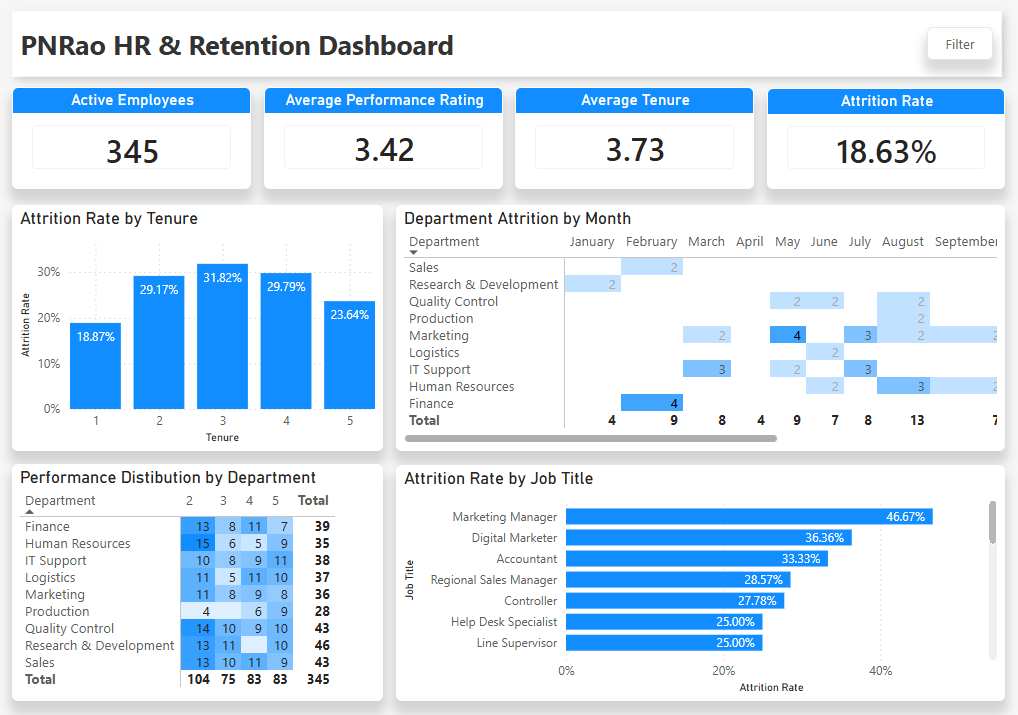

The dashboard page shown, as its layout file describes it:
{"tool":"powerbi","page":{"name":"Overview","canvas":[1020,720],"ordinal":0},"visuals":[{"type":"cardVisual","title":"Active Employees","fields":{"Data":["employee_staging3_v3.Active Employees"]},"box":[13.5,89.3,238.8,101.4],"z":0},{"type":"shape","box":[0,0,1016.3,91.6],"z":1000},{"type":"cardVisual","title":"Average Performance Rating","fields":{"Data":["Avg(employee_staging3_v3.Performance Rating)"]},"box":[264.8,89.3,238.8,101.4],"z":2000},{"type":"cardVisual","title":"Average Tenure","fields":{"Data":["Avg(employee_staging3_v3.Tenure)"]},"box":[516.2,89.3,238.8,101.4],"z":3000},{"type":"cardVisual","title":"Attrition Rate","fields":{"Data":["employee_staging3_v3.Attrition Rate"]},"box":[767.6,89.8,238.8,101.4],"z":4000},{"type":"actionButton","box":[928,28.9,65.8,33.4],"z":5000},{"type":"clusteredColumnChart","title":"Attrition Rate  by Tenure","fields":{"Category":["employee_staging3_v3.Tenure"],"Y":["employee_staging3_v3.Attrition Rate"]},"box":[13.5,207.4,370.8,246],"z":6000},{"type":"pivotTable","title":"Performance Distibution by Department","fields":{"Rows":["employee_staging3_v3.Department"],"Columns":["employee_staging3_v3.Performance Rating"],"Values":["employee_staging3_v3.Active Employees"]},"box":[13.5,465.9,370.8,237],"z":7000},{"type":"pivotTable","title":"Department Attrition by Month","fields":{"Rows":["employee_staging3_v3.Department"],"Columns":["employee_staging3_v3.Termination Date.Variation.Date Hierarchy.Month"],"Values":["CountNonNull(employee_staging3_v3.Employee ID)"]},"box":[396.8,207.4,609.6,246],"z":8000},{"type":"clusteredBarChart","fields":{"Category":["employee_staging3_v3.Job Title"],"Y":["employee_staging3_v3.Attrition Rate"]},"box":[396.8,466.8,609.6,236.1],"z":9000}]}

Visuals, with their boxes in screenshot pixels (x1, y1, x2, y2), scaled from the page's 1020x720 canvas onto the 1018x715 screenshot:
"Active Employees" cardVisual: 13,89,252,189
shape: 0,0,1014,91
"Average Performance Rating" cardVisual: 264,89,503,189
"Average Tenure" cardVisual: 515,89,754,189
"Attrition Rate" cardVisual: 766,89,1004,190
actionButton: 926,29,992,62
"Attrition Rate  by Tenure" clusteredColumnChart: 13,206,384,450
"Performance Distibution by Department" pivotTable: 13,463,384,698
"Department Attrition by Month" pivotTable: 396,206,1004,450
clusteredBarChart - employee_staging3_v3.Job Title x employee_staging3_v3.Attrition Rate: 396,464,1004,698
